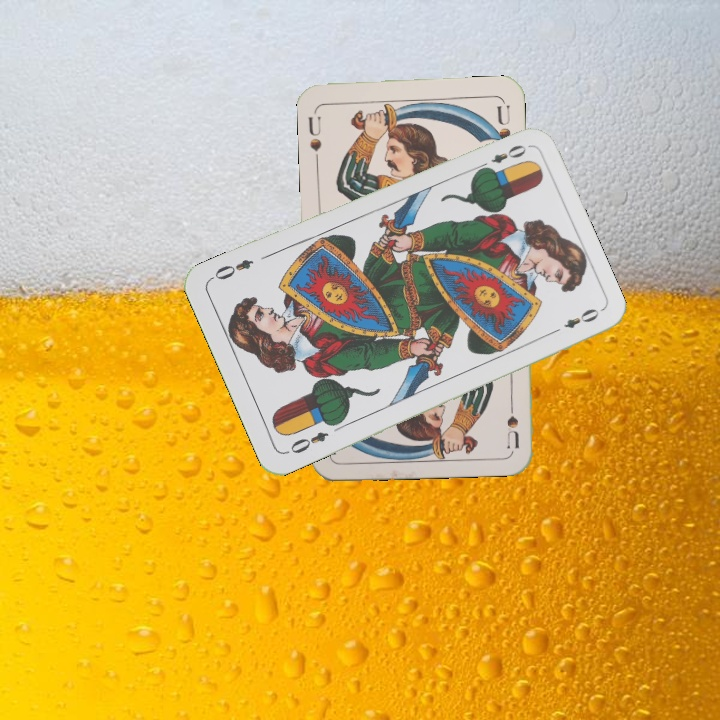EO: (474, 140, 529, 173), (286, 427, 331, 456)
SU: (502, 390, 521, 450), (304, 112, 324, 154)
